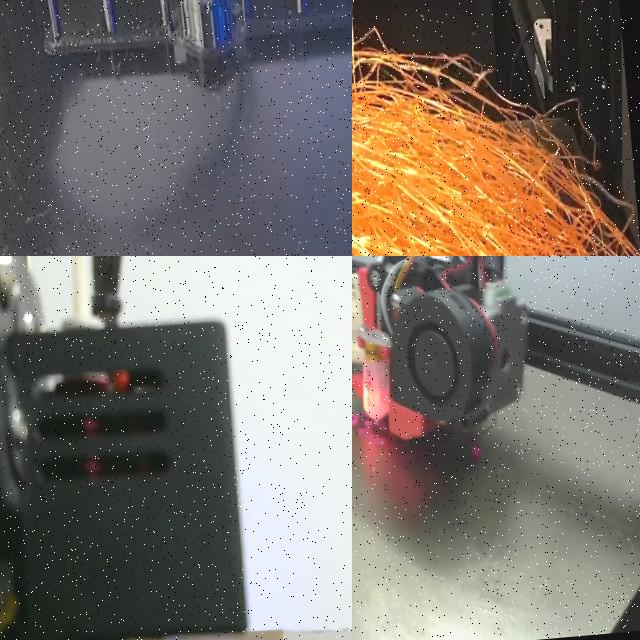spaghetti: (352, 0, 640, 256), (352, 411, 388, 446), (470, 444, 481, 462)
